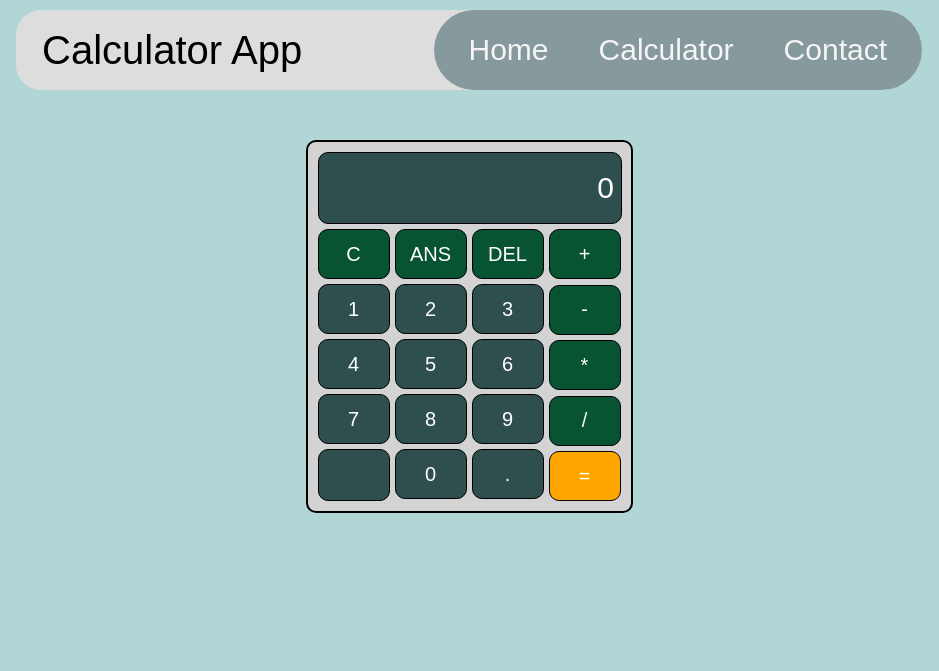
Calculator Tests › calculator adds two numbers together
expect the text with id "current" reads "0": met, box [597,171,614,205]
Click the button "2" at (431, 309), box [395,284,467,334]
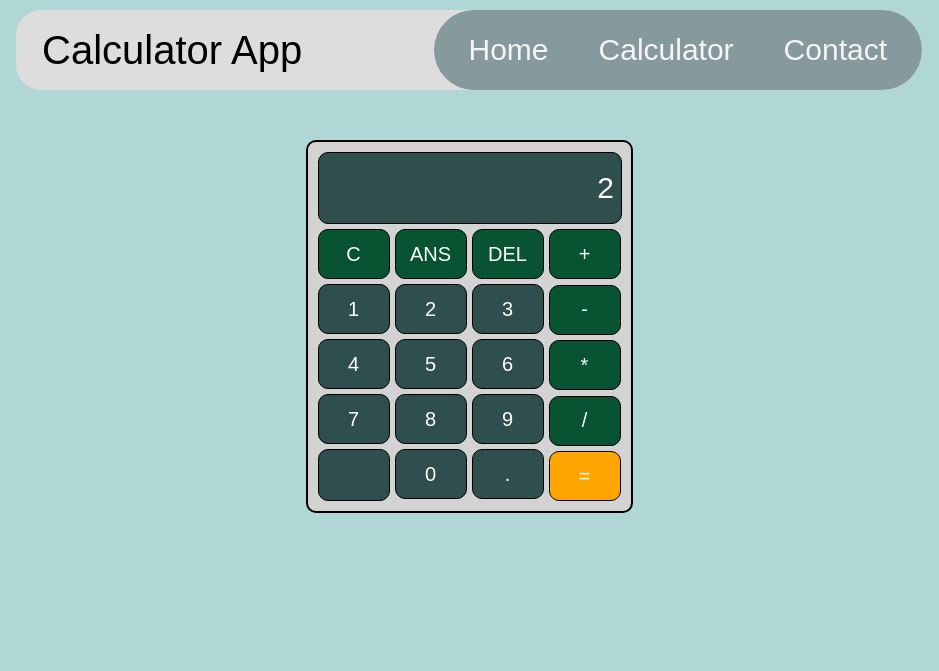
Click the button "+" at (585, 254), box [549,229,621,279]
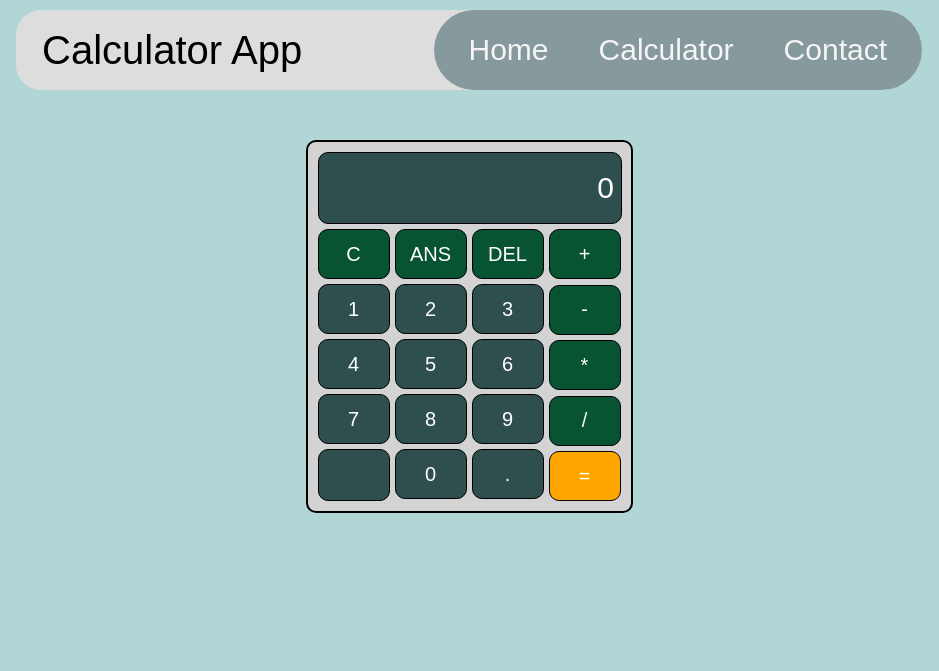
Click the button "2" at (431, 309), box [395,284,467,334]
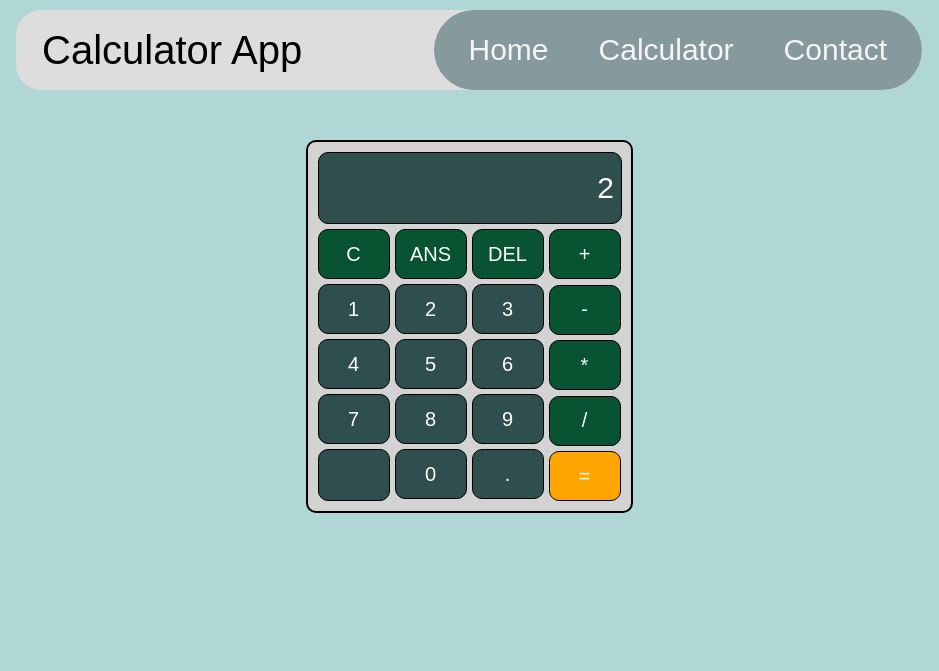
Click the button "=" at (585, 476), box [549,451,621,501]
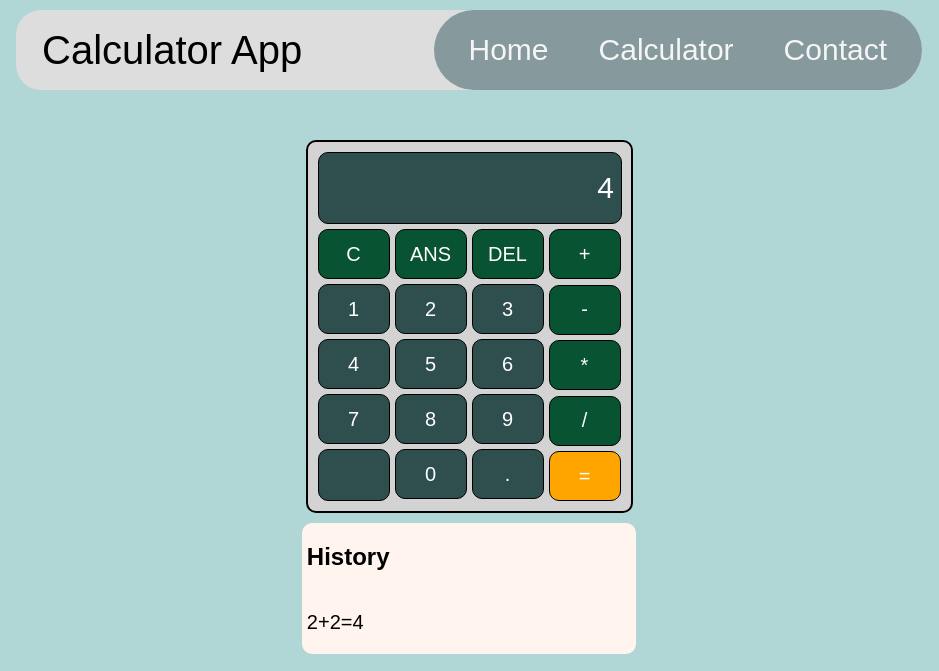
expect the text with id "current" reads "4": met, box [597,171,614,205]
